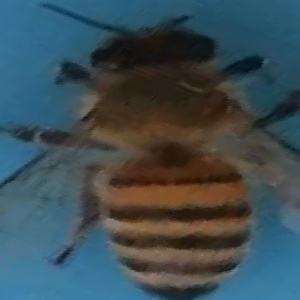bee: (43, 13, 287, 300)
